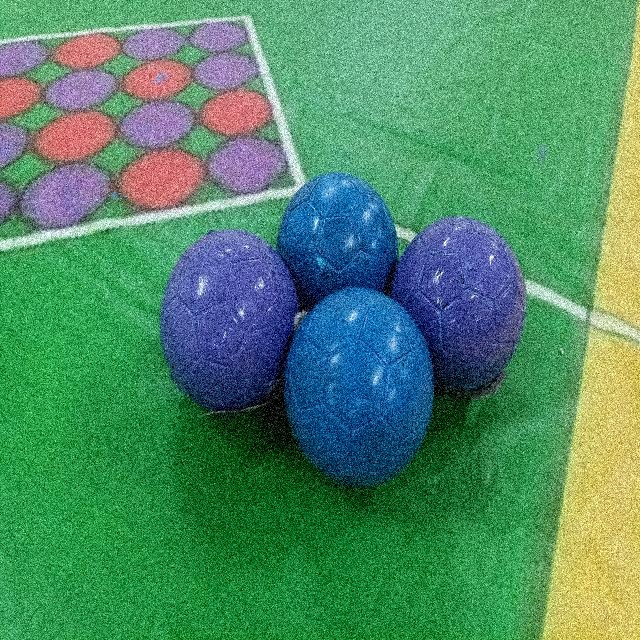blue_ball: (285, 290, 432, 489)
